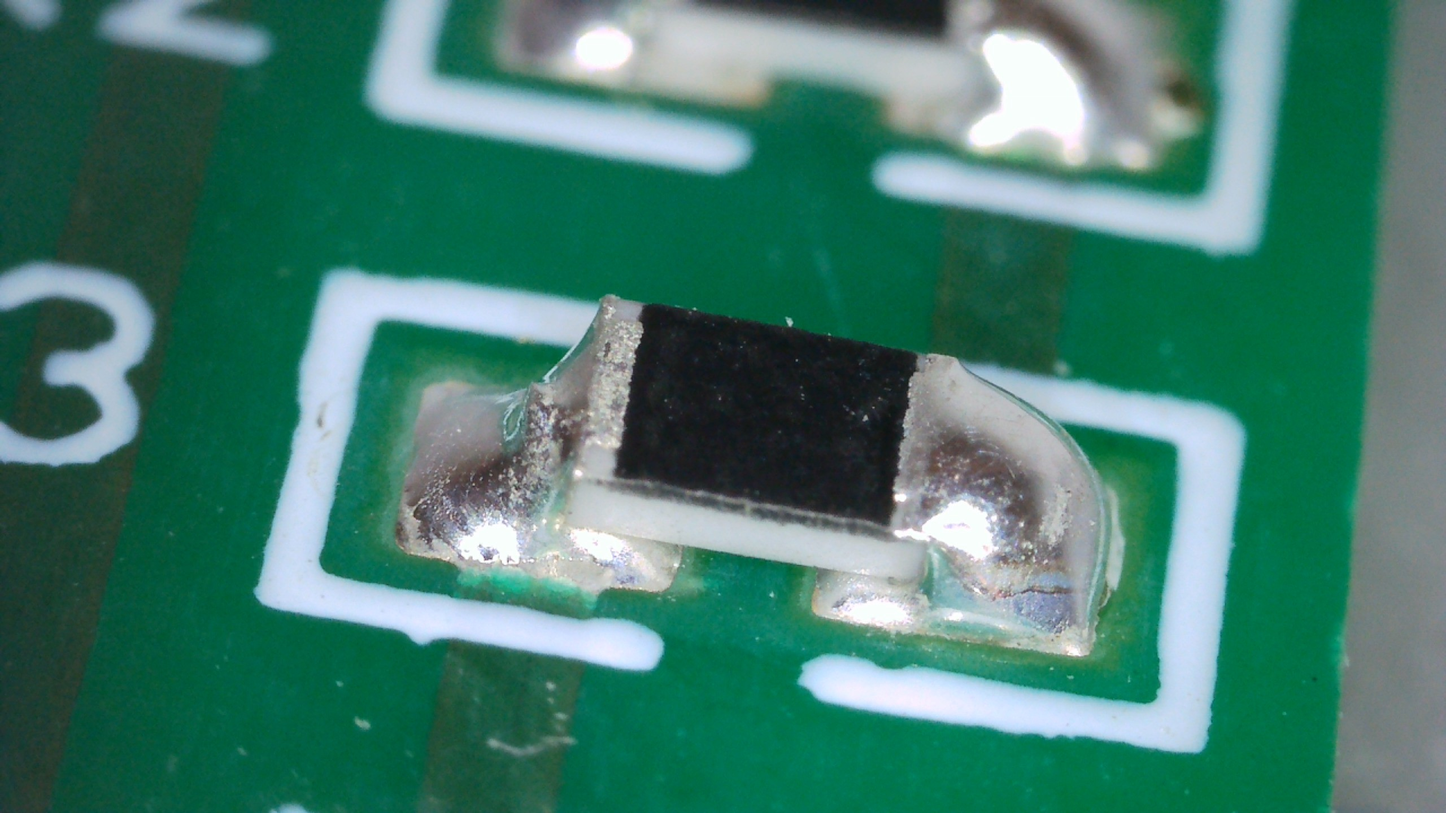NG: (813, 354, 1109, 654), (522, 385, 558, 452)
OK: (397, 296, 682, 595)
